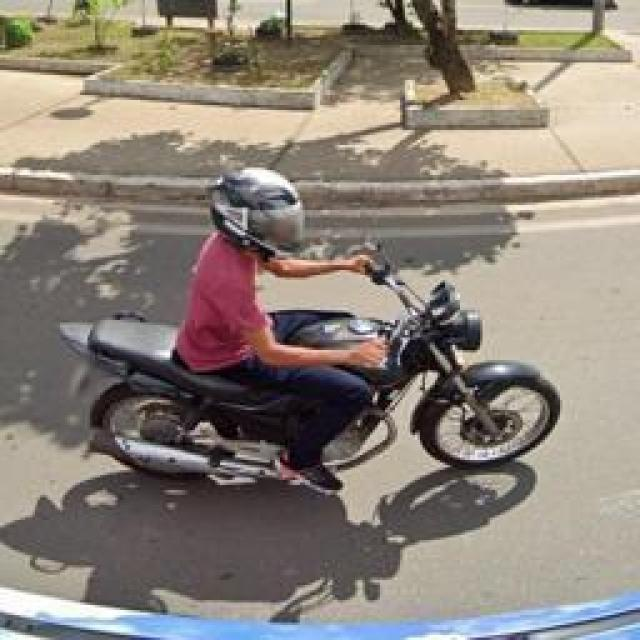motorbike: (58, 184, 562, 491)
